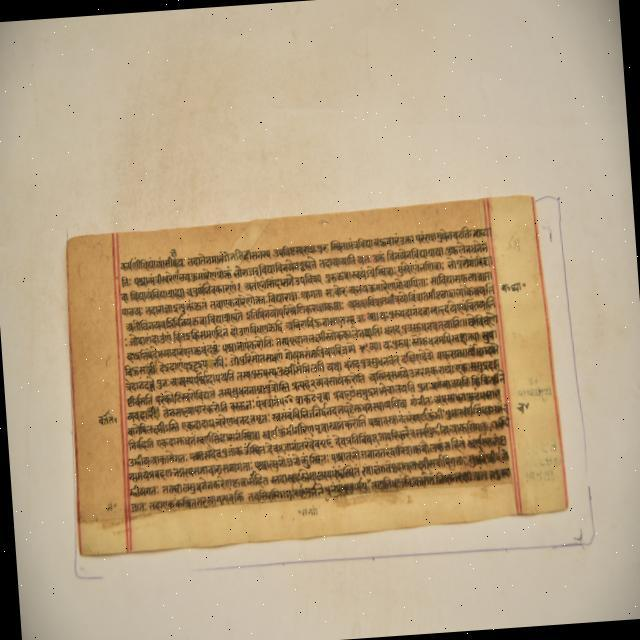text_paragraph: (66, 190, 565, 553)
